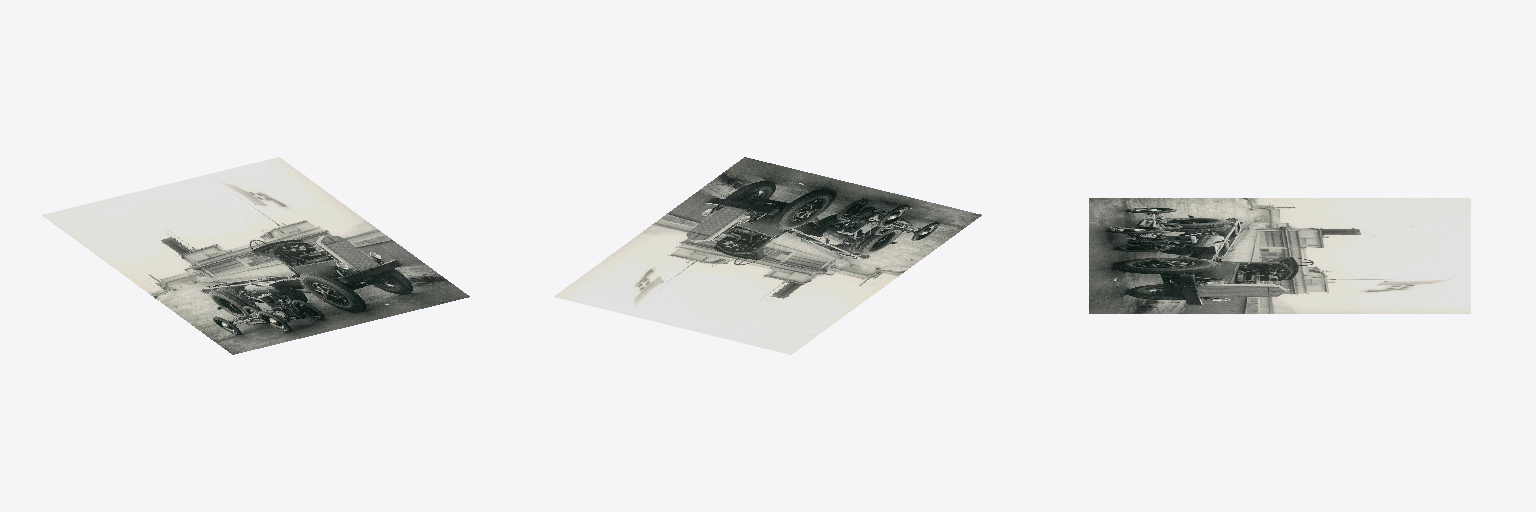
The picture shows the model from 3 angles: view 1: azimuth 30°, elevation 25°; view 2: azimuth 150°, elevation 25°; view 3: azimuth 270°, elevation 25°; orthographic projection.
Visible parts, largest first — view 1: Plane001; view 2: Plane001; view 3: Plane001.
Boxes of the visible parts, box(x1,y1,x2,y2) form: Plane001: box(42, 157, 469, 354); Plane001: box(554, 157, 981, 354); Plane001: box(1089, 198, 1470, 313).
Bounding box in the file's own units: 1.64 × 0 × 2.29.
Materials: 1 (1 with a texture image).